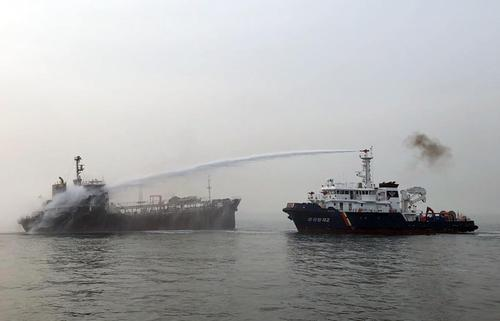smoke: (406, 127, 459, 173)
